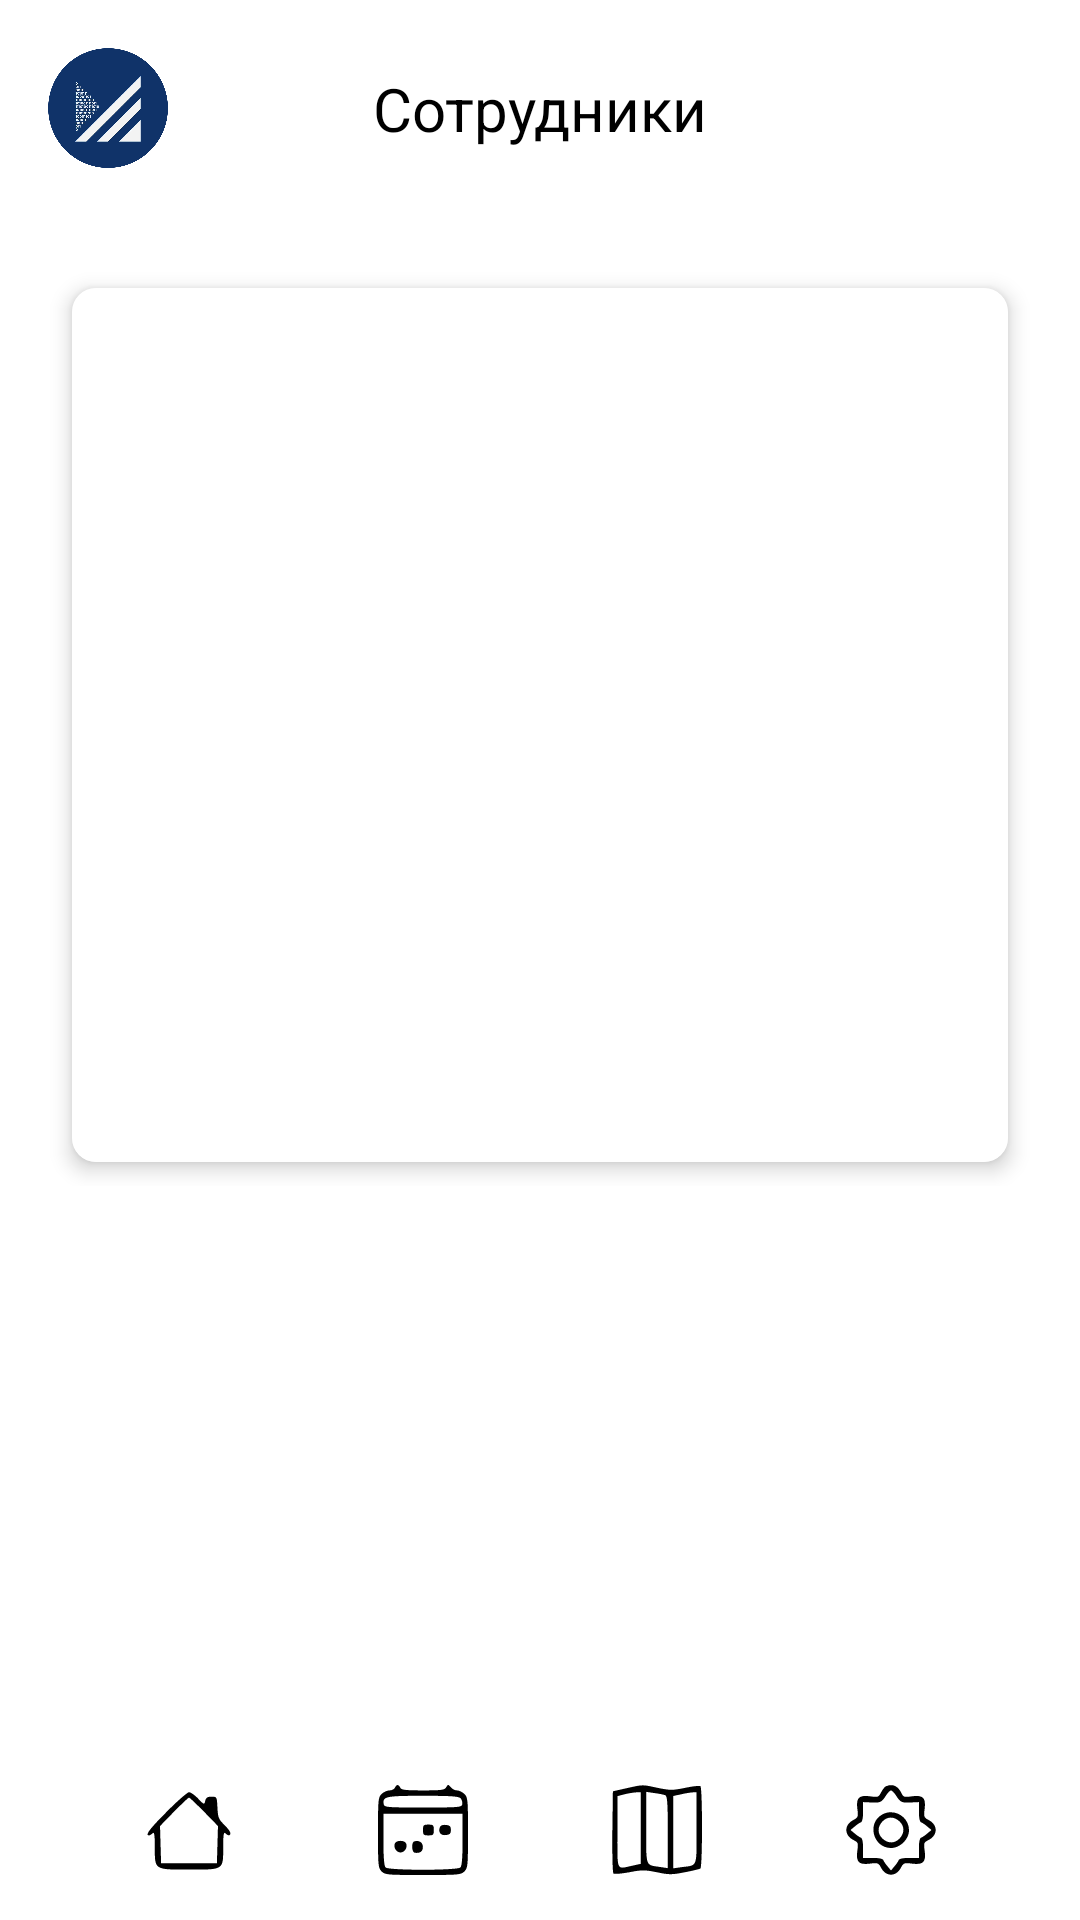

Where icons sit on this 1080 x 1920 app screen, as (x1, y1, x2, y2):
calendar: (378, 1785, 468, 1875)
home: (147, 1792, 231, 1870)
map: (612, 1785, 702, 1875)
settings: (846, 1785, 936, 1875)
